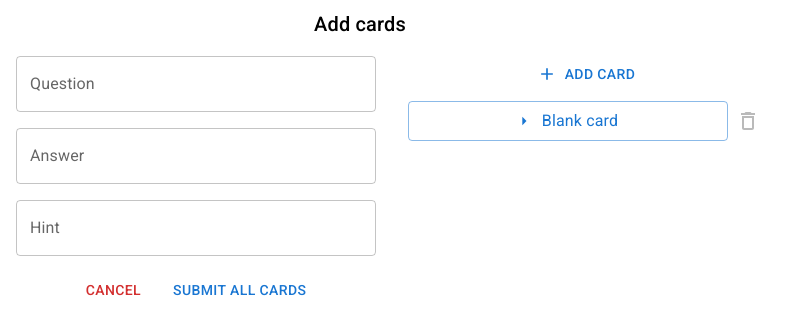
Test: card form component › should disable "submit" button after clicking "add card" button
Click the button "Add card" at (588, 74), box x1=408 y1=56 x2=768 y2=92
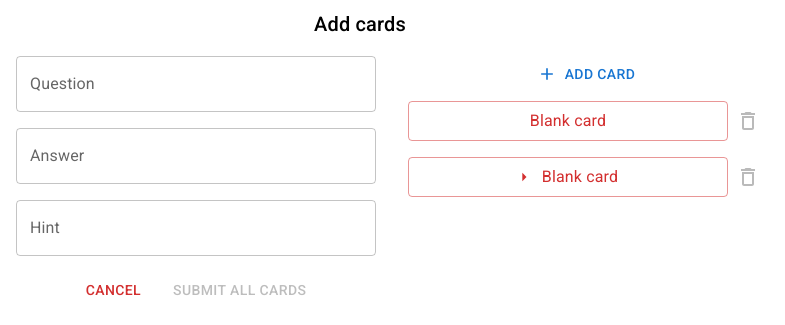
Now the button "Submit all cards" is disabled, box x1=165 y1=272 x2=314 y2=308
